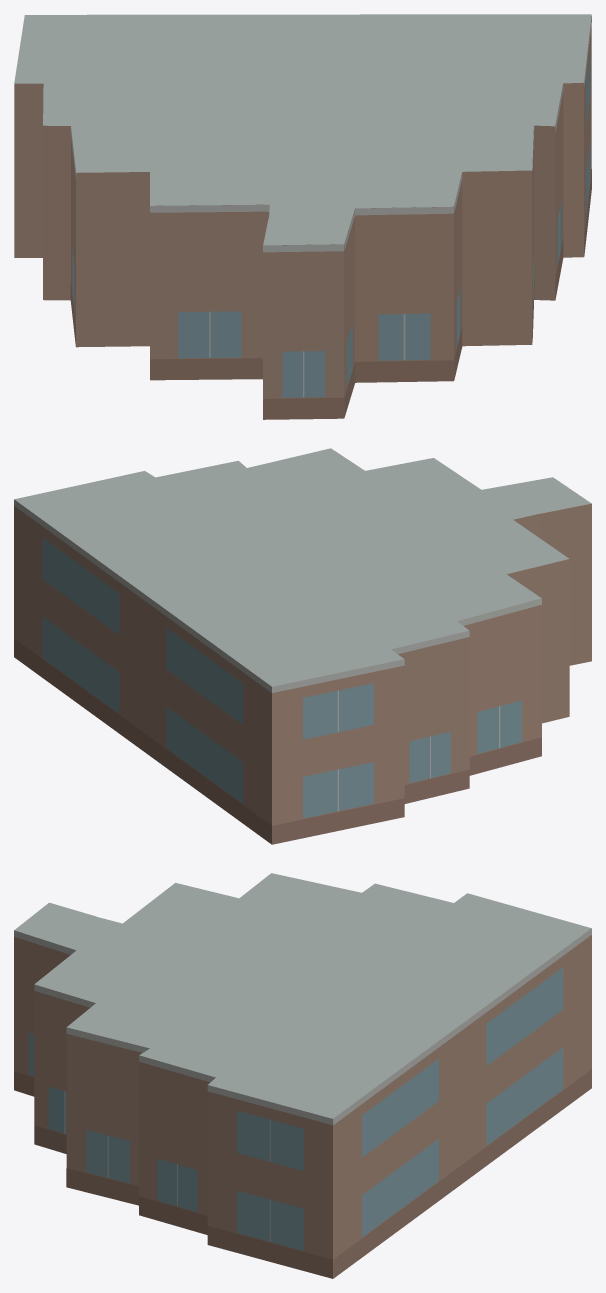
Rendered from survey-upis-32689839.glb.
3 views of the same model, one above another, from view 1: azimuth 30°, elevation 25°; view 2: azimuth 150°, elevation 25°; view 3: azimuth 270°, elevation 25° (orthographic). The views are drawn at different scales.
Parts seen in each view (by area): view 1: survey-upis-32689839.tmp; view 2: survey-upis-32689839.tmp; view 3: survey-upis-32689839.tmp.
Part boxes in pixels (x1=…): survey-upis-32689839.tmp: x1=14, y1=14, x2=591, y2=419; survey-upis-32689839.tmp: x1=14, y1=448, x2=591, y2=844; survey-upis-32689839.tmp: x1=14, y1=873, x2=591, y2=1278.
Bounding box in the file's own units: 20.12 × 6.1 × 19.98.
